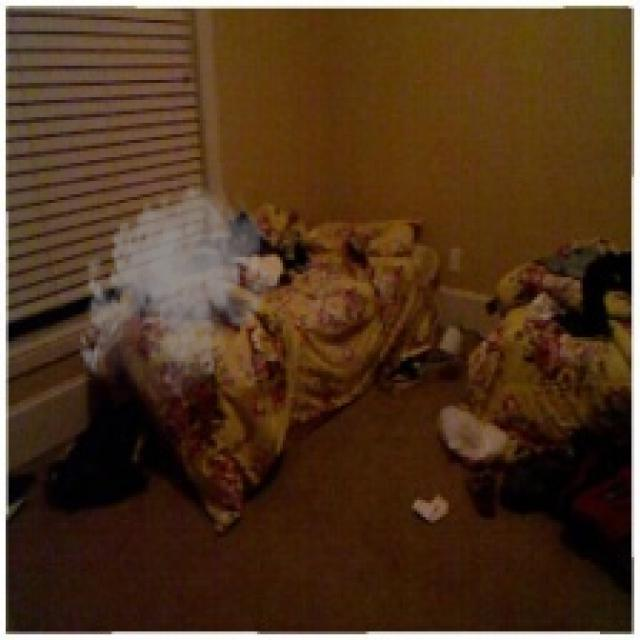Smoke: (74, 177, 283, 406)
